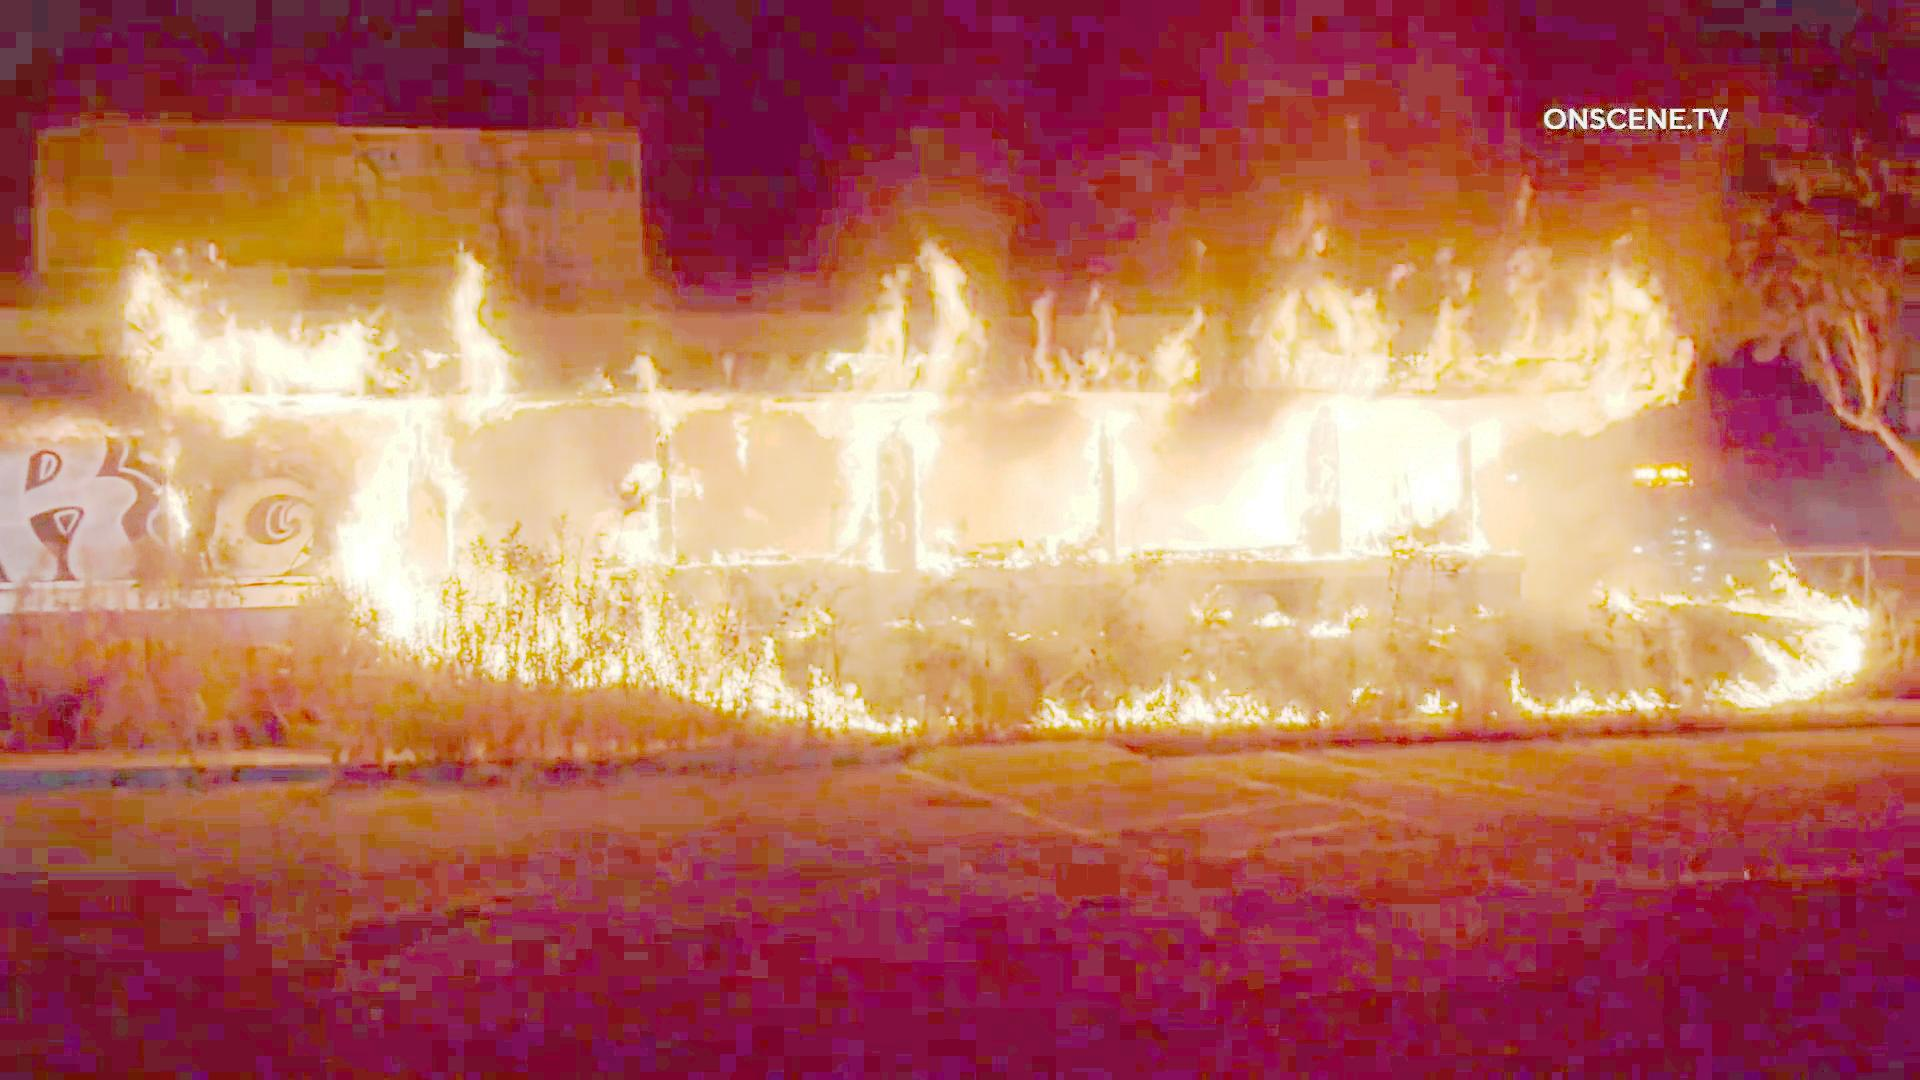fire: (851, 233, 1687, 418), (570, 409, 1509, 543), (120, 243, 517, 418), (1721, 546, 1892, 703)
